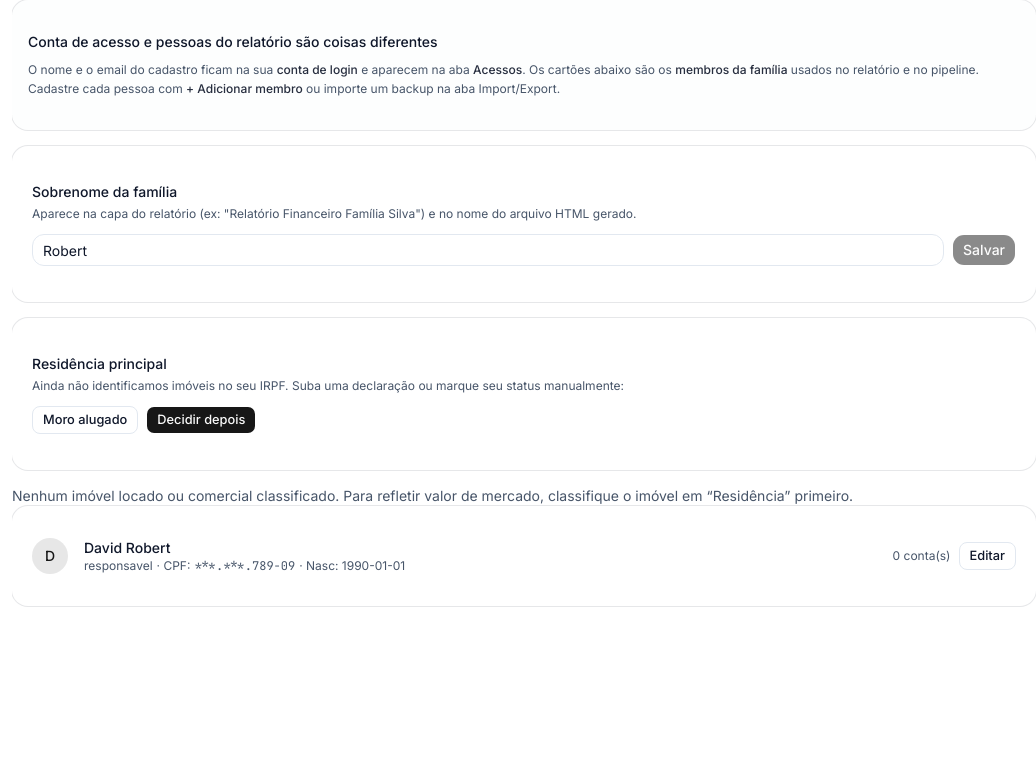
MembersTab — RBAC › viewer expandido vê campos como texto, sem controles de edição
Expected: the text "David Robert" is shown, [84,539,170,556]
Click the button "Editar". click: (987, 556)
box: [958,542,1016,570]
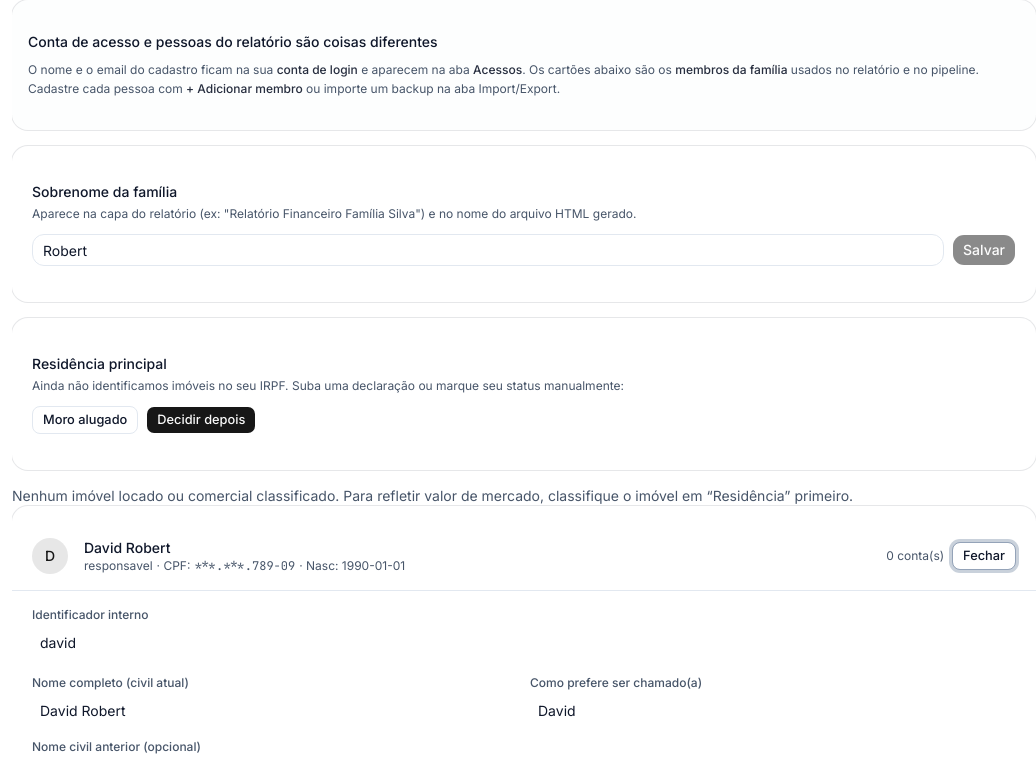
Expected: the text "David Robert" below "Nome completo (civil atual)" is shown, [40,702,126,719]
